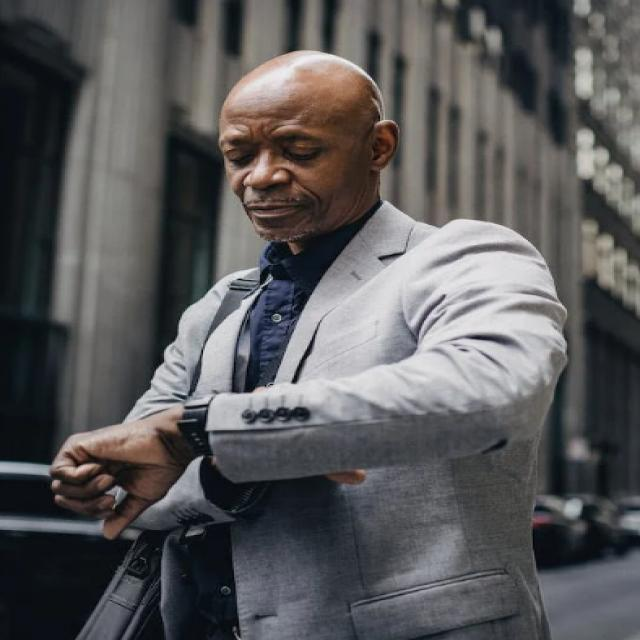Watch: (177, 390, 227, 460)
